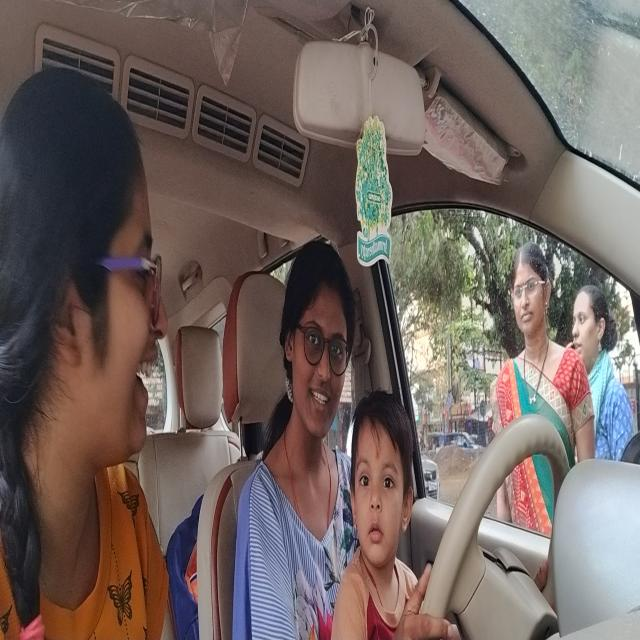child: (348, 388, 417, 572)
person: (0, 55, 172, 478), (279, 227, 357, 444)
